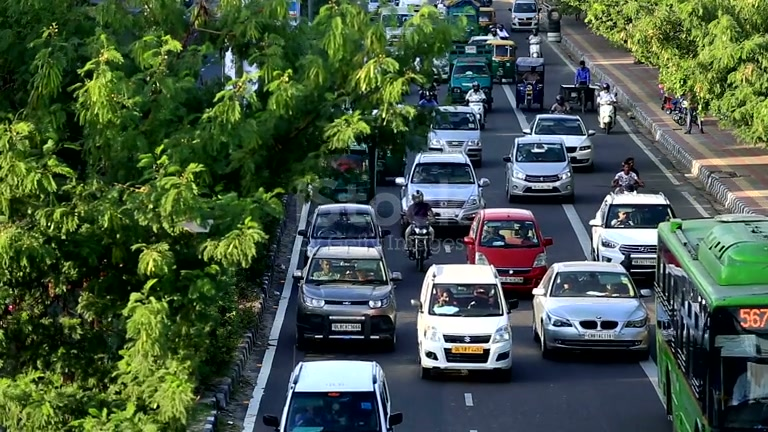bus: (652, 213, 768, 428)
car: (412, 263, 516, 381), (530, 260, 652, 360), (294, 243, 402, 352), (268, 359, 403, 430), (462, 207, 554, 295), (399, 150, 491, 238), (588, 191, 676, 276), (501, 135, 575, 202), (301, 203, 385, 256), (529, 113, 595, 170), (426, 105, 485, 166), (447, 55, 494, 109), (511, 0, 539, 30)
motorcycle: (405, 223, 435, 273)
pedestrian: (403, 196, 436, 264), (402, 201, 436, 247), (611, 157, 645, 194), (596, 84, 617, 135), (573, 60, 591, 104), (432, 288, 459, 313), (574, 60, 590, 88), (615, 210, 635, 228)
truck: (465, 36, 518, 84)
